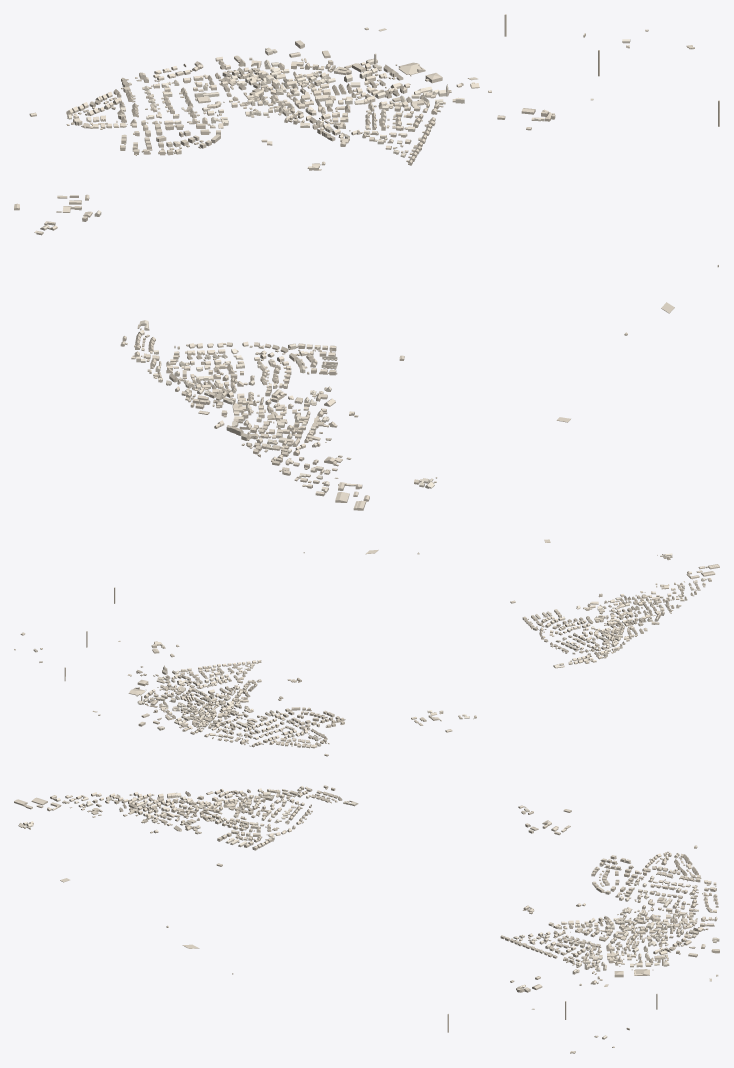
3 renders of one model, top to bottom at view 1: azimuth 30°, elevation 25°; view 2: azimuth 150°, elevation 25°; view 3: azimuth 270°, elevation 25°, orthographic. The views are drawn at different scales.
Size of the model in its own units: 2112 by 71.98 by 2414.
